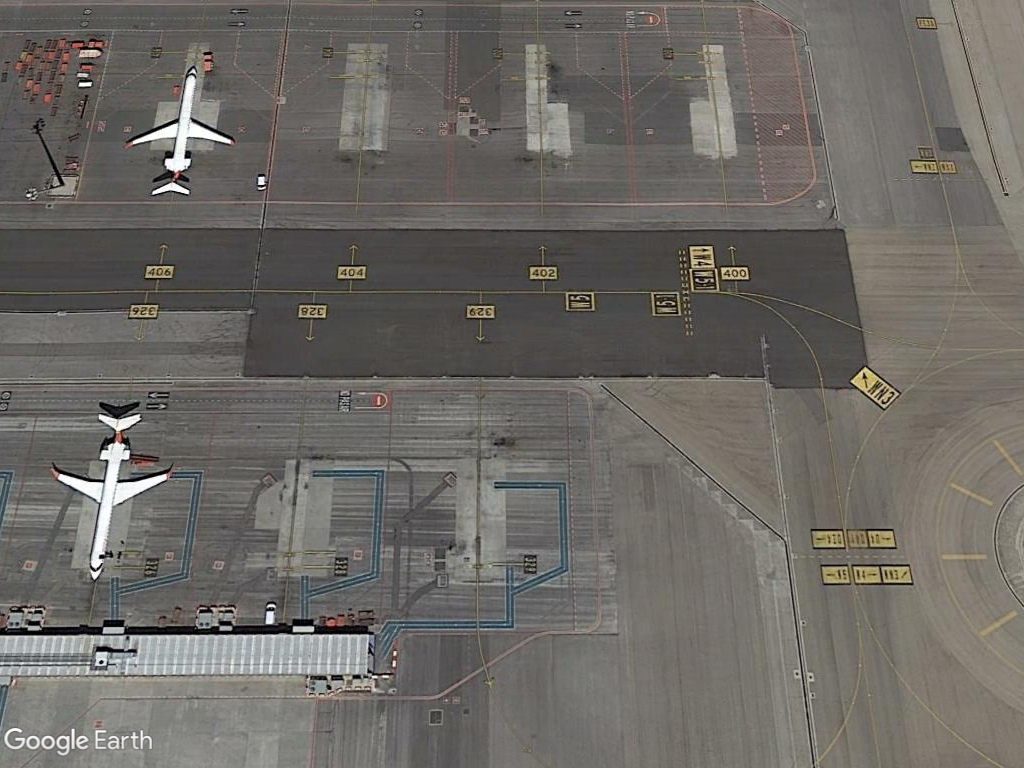chartered: (40, 408, 179, 582), (126, 61, 238, 203)
van: (260, 600, 279, 629)
